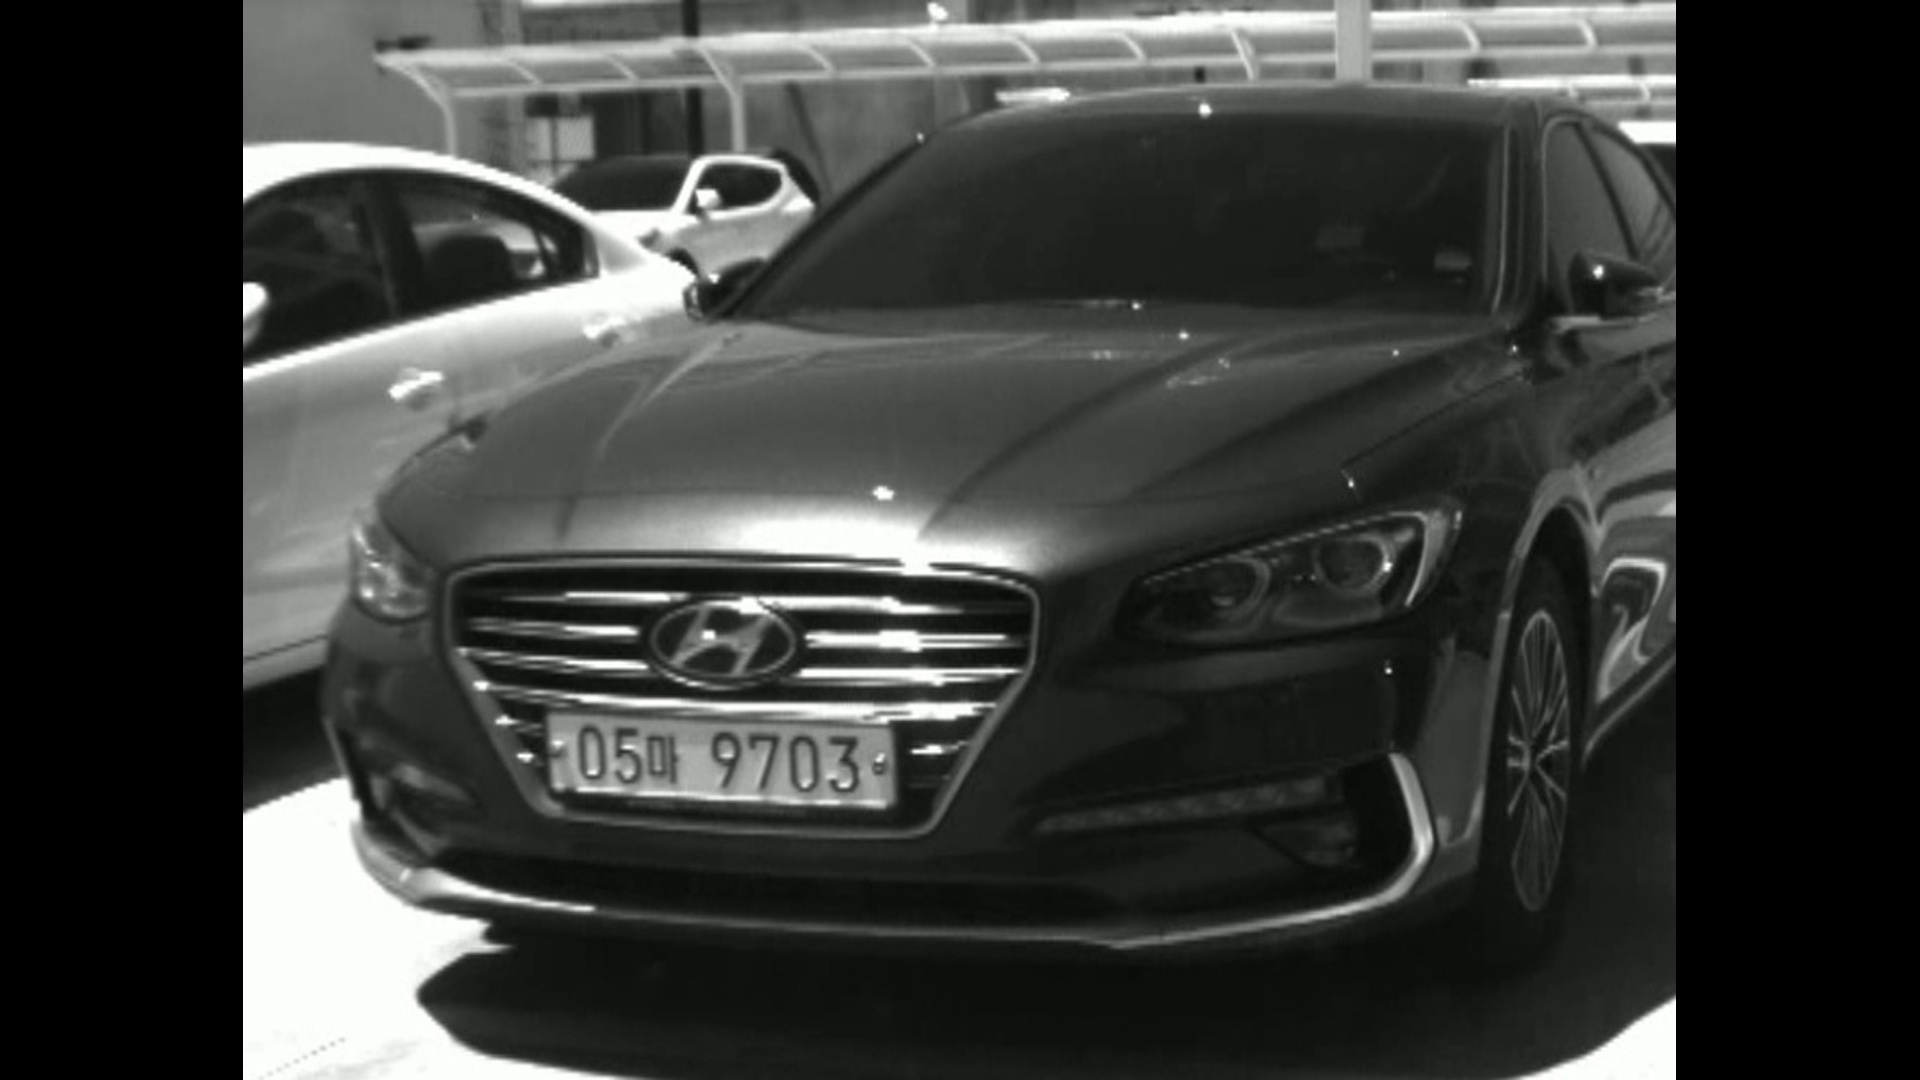license_plate: (540, 703, 902, 818)
